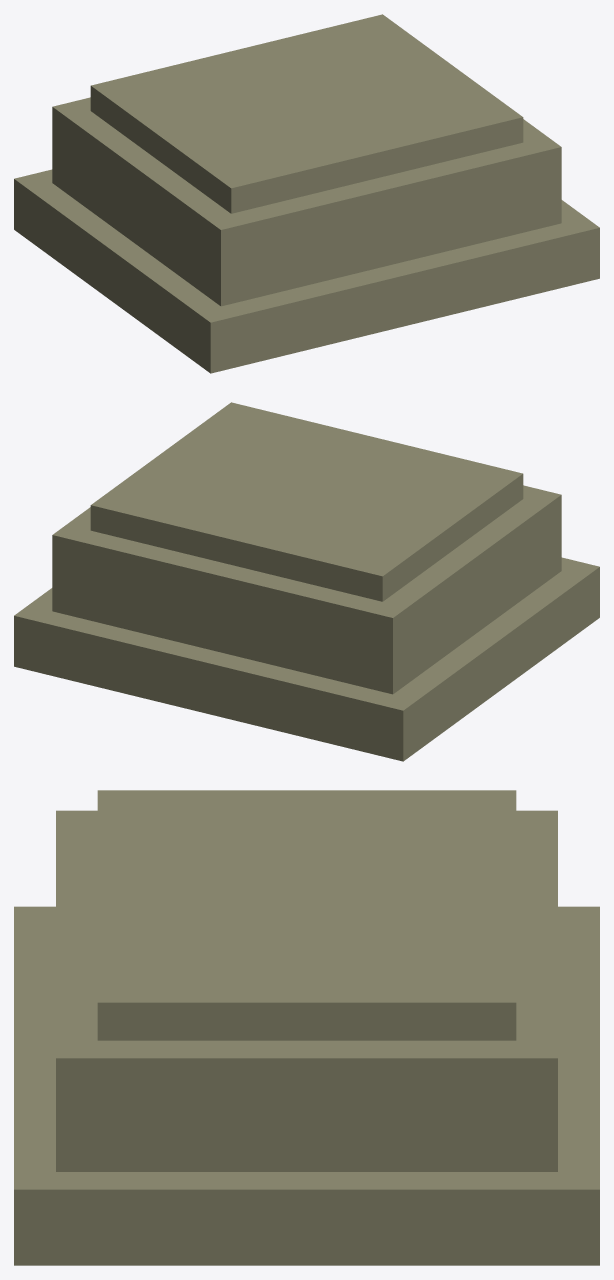
File: fitness-13.glb
3 views of the same model, one above another, from view 1: azimuth 30°, elevation 25°; view 2: azimuth 150°, elevation 25°; view 3: azimuth 270°, elevation 25° (orthographic). The views are drawn at different scales.
Parts seen in each view (by area): view 1: Meditation cushion; view 2: Meditation cushion; view 3: Meditation cushion.
Boxes of the visible parts, box(x1,y1,x2,y2) form: Meditation cushion: box(14, 14, 599, 373); Meditation cushion: box(14, 402, 599, 761); Meditation cushion: box(14, 790, 599, 1265).
Size of the model in its own units: 1.28 by 0.48 by 1.12.
